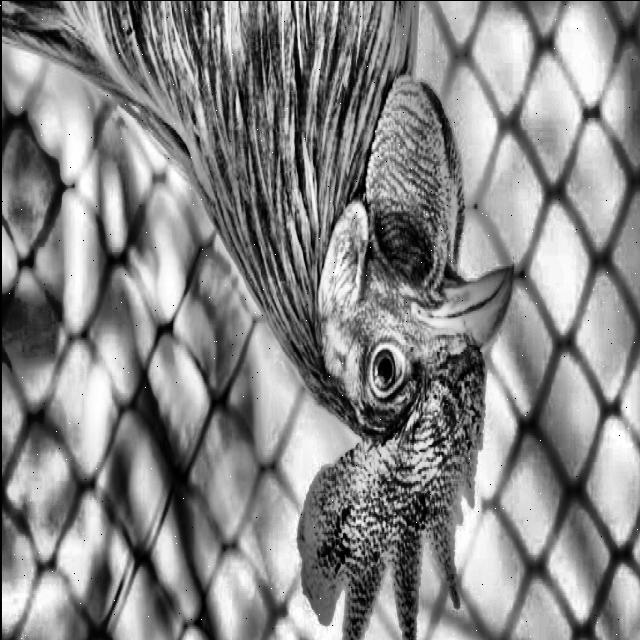Fowlpox: (289, 144, 521, 626)
